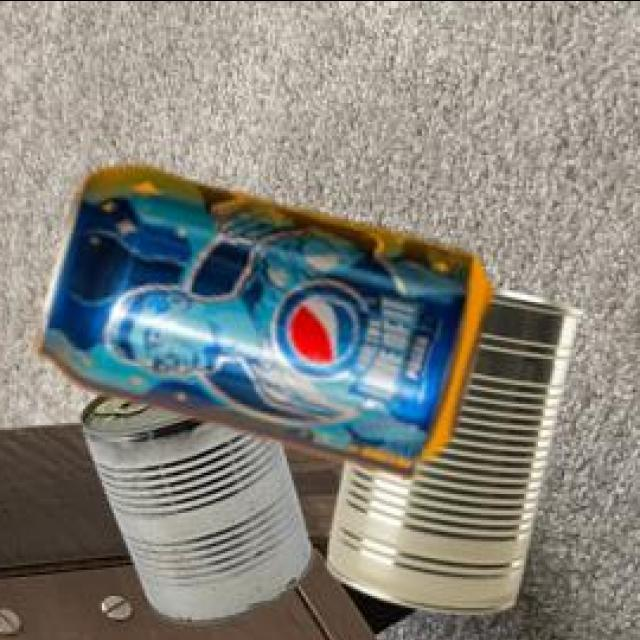logam: (34, 169, 487, 480), (324, 292, 580, 617), (77, 397, 309, 627)
